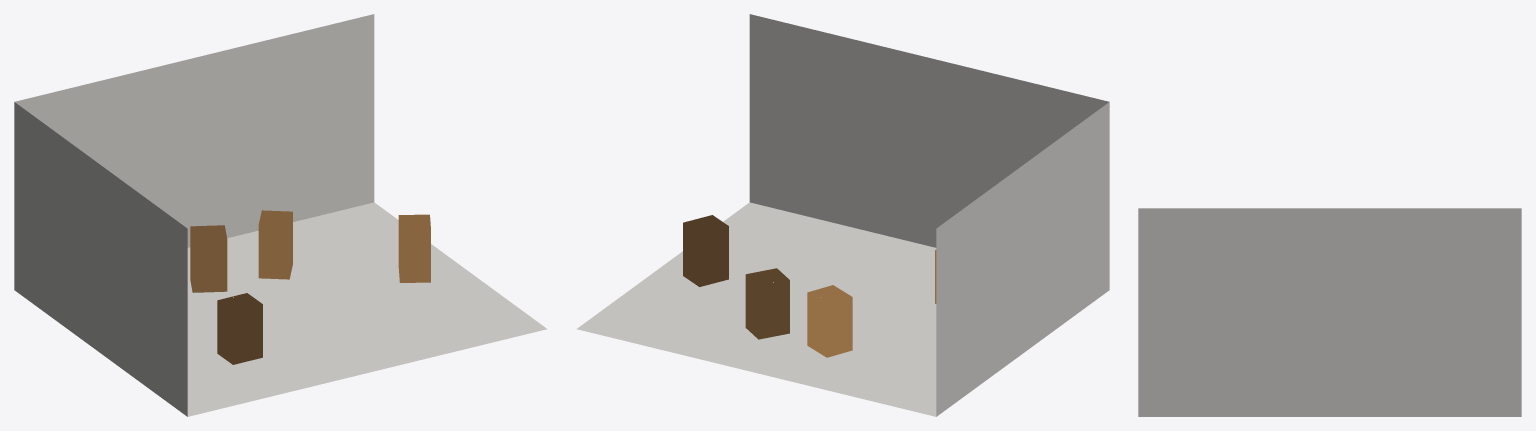
The picture shows the model from 3 angles, left to right: view 1: azimuth 30°, elevation 25°; view 2: azimuth 150°, elevation 25°; view 3: azimuth 270°, elevation 25°; orthographic projection. The views are drawn at different scales.
Parts seen in each view (by area): view 1: Room, dining_chair_1_mesh, dining_chair_0_mesh, dining_chair_3_mesh, dining_chair_2_mesh; view 2: Room, dining_chair_0_mesh, dining_chair_2_mesh, dining_chair_3_mesh; view 3: Room.
Part boxes in pixels (bbox=[...]): Room: bbox=[14, 14, 547, 416]; dining_chair_1_mesh: bbox=[217, 293, 262, 364]; dining_chair_0_mesh: bbox=[190, 225, 227, 292]; dining_chair_3_mesh: bbox=[258, 210, 292, 279]; dining_chair_2_mesh: bbox=[398, 214, 430, 282]; Room: bbox=[576, 14, 1109, 416]; dining_chair_0_mesh: bbox=[807, 285, 852, 357]; dining_chair_2_mesh: bbox=[683, 215, 728, 286]; dining_chair_3_mesh: bbox=[745, 268, 789, 339]; Room: bbox=[1138, 208, 1521, 416].
Size of the model in its own units: 6 by 3 by 5.
